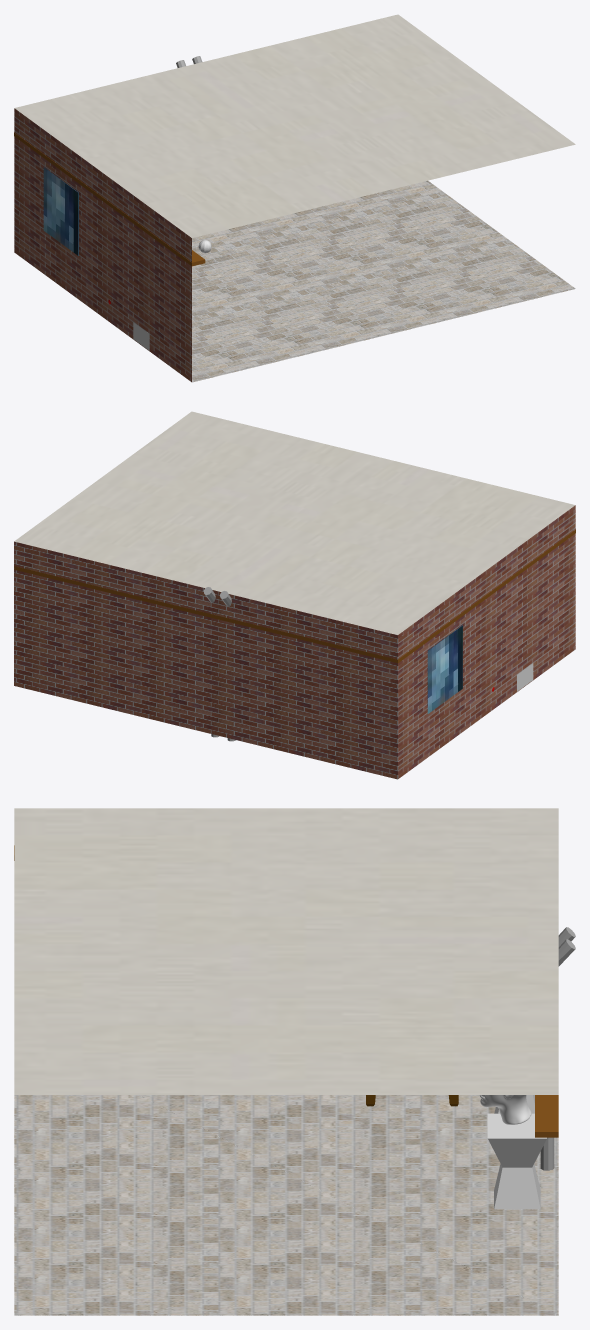
3 views of the same model, one above another, from view 1: azimuth 30°, elevation 25°; view 2: azimuth 150°, elevation 25°; view 3: azimuth 270°, elevation 25° (orthographic). The views are drawn at different scales.
Parts seen in each view (by area): view 1: walls, Cube.005, Plane; view 2: walls, Plane, Cube.005; view 3: walls, Cube.003, 11091_FemaleHead_v4, Plane.
Boxes of the visible parts, left/top/right/bottom form: walls: left=14, top=14, right=575, bottom=382; Cube.005: left=43, top=167, right=78, bottom=255; Plane: left=14, top=132, right=205, bottom=266; walls: left=14, top=411, right=575, bottom=779; Plane: left=14, top=529, right=575, bottom=663; Cube.005: left=427, top=625, right=462, bottom=713; walls: left=14, top=808, right=558, bottom=1315; Cube.003: left=487, top=1113, right=546, bottom=1209; 11091_FemaleHead_v4: left=479, top=1095, right=531, bottom=1124; Plane: left=14, top=845, right=558, bottom=1137.
Size of the model in its own units: 19.91 by 7.57 by 16.47.
21 materials, 4 textured.
